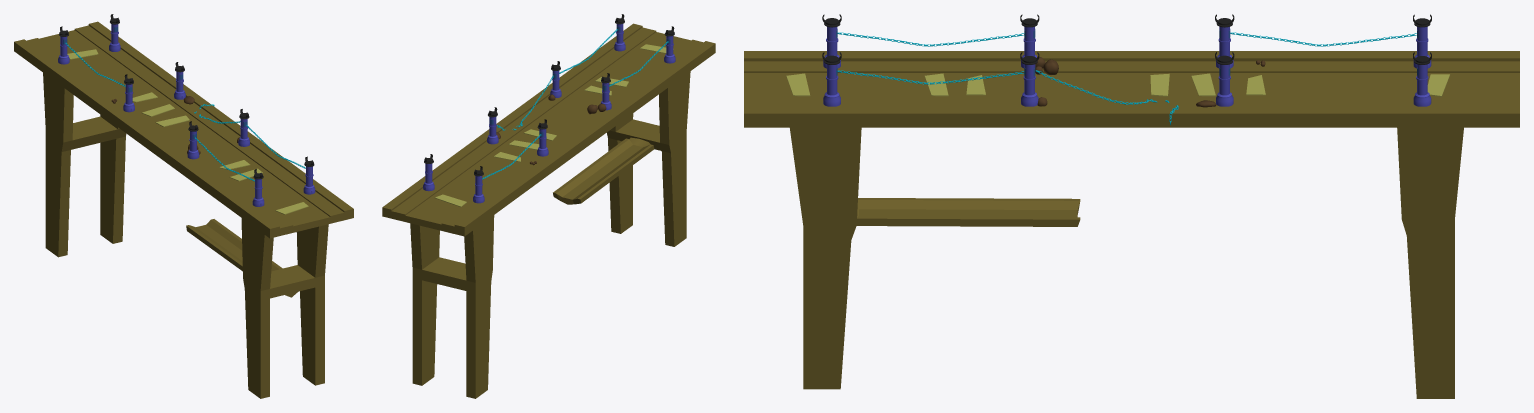
The model's file is Bridge.FBX.
The picture shows the model from 3 angles, left to right: view 1: azimuth 30°, elevation 25°; view 2: azimuth 150°, elevation 25°; view 3: azimuth 270°, elevation 25°; orthographic projection. The views are drawn at different scales.
Visible parts, largest first — view 1: Box001, Cylinder002, Box013, Cylinder003; view 2: Box001, Cylinder002, Box013, Cylinder003, Torus074; view 3: Box001, Cylinder002, Box013, Cylinder003, Torus074.
Boxes of the visible parts, x1,y1,x2,y2 form: Box001: (14,21,353,398); Cylinder002: (58,24,315,206); Box013: (67,49,308,214); Cylinder003: (59,14,314,179); Box001: (382,23,715,398); Cylinder002: (423,24,675,203); Box013: (435,44,673,206); Cylinder003: (424,14,674,176); Torus074: (497,29,617,130); Box001: (744,51,1519,398); Cylinder002: (823,26,1431,106); Box013: (786,73,1450,96); Cylinder003: (822,14,1431,64); Torus074: (837,70,1178,125).
Bounding box in the file's own units: 188 × 471 × 969.
